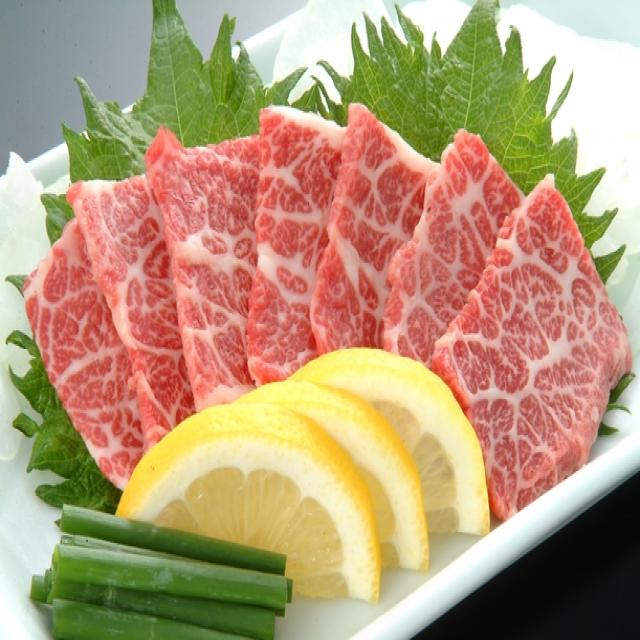刺身生食: (1, 1, 638, 626)
